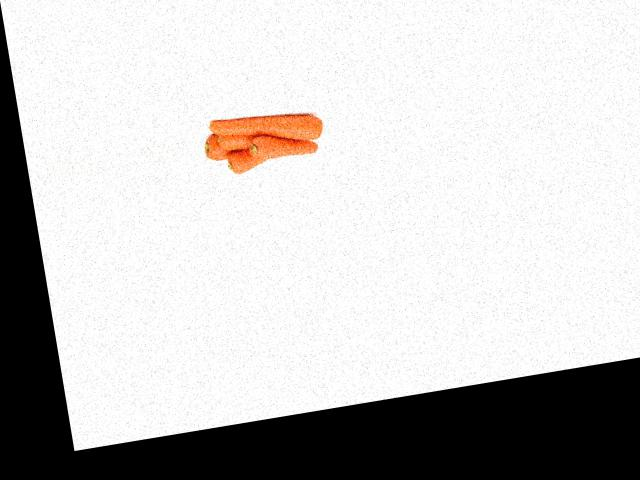carrot: (223, 143, 274, 174)
